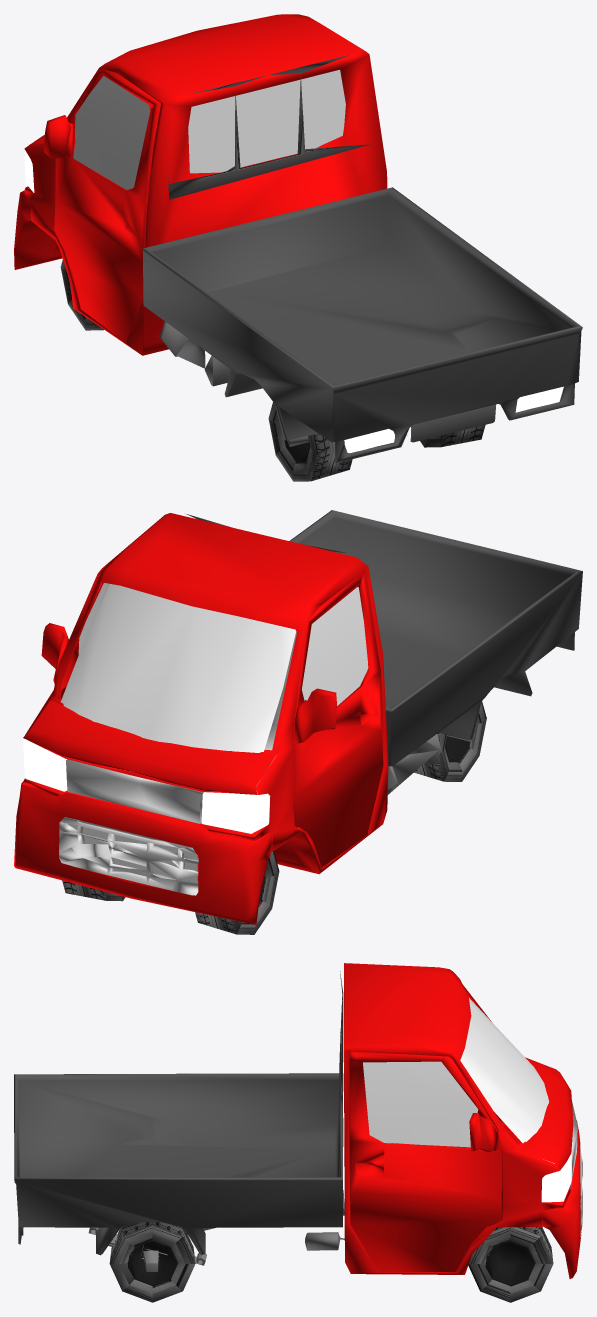
File: minitruck_lod.glb
The picture shows the model from 3 angles, top to bottom: view 1: azimuth 30°, elevation 25°; view 2: azimuth 150°, elevation 25°; view 3: azimuth 270°, elevation 25°; orthographic projection. The views are drawn at different scales.
Parts seen in each view (by area): view 1: Object_15, Object_11, Object_21, Object_106, Circle.062_62, Object_88, Object_5, Circle.022_59; view 2: Object_11, Object_15, Object_21, Object_78, Object_88, Circle.062_62, Circle.011_65, Object_5, Object_7, Circle.019_56; view 3: Object_15, Object_11, Object_21, Circle.022_59, Circle.019_56, Circle.021_57, Circle.032_60, Object_5, Object_88, Object_78, Object_106.
Boxes of the visible parts, x1=… form: Object_15: x1=142, y1=187, x2=582, y2=462; Object_11: x1=14, y1=14, x2=387, y2=355; Object_21: x1=74, y1=69, x2=345, y2=189; Object_106: x1=166, y1=54, x2=370, y2=199; Circle.062_62: x1=268, y1=402, x2=352, y2=481; Object_88: x1=24, y1=151, x2=563, y2=453; Object_5: x1=159, y1=321, x2=406, y2=446; Circle.022_59: x1=410, y1=425, x2=485, y2=447; Object_11: x1=14, y1=513, x2=388, y2=924; Object_15: x1=289, y1=510, x2=582, y2=766; Object_21: x1=61, y1=583, x2=368, y2=752; Object_78: x1=59, y1=632, x2=296, y2=895; Object_88: x1=23, y1=739, x2=269, y2=833; Circle.062_62: x1=414, y1=701, x2=486, y2=781; Circle.011_65: x1=195, y1=851, x2=279, y2=934; Object_5: x1=387, y1=734, x2=472, y2=794; Object_7: x1=68, y1=823, x2=197, y2=881; Circle.019_56: x1=62, y1=880, x2=125, y2=901; Object_15: x1=14, y1=1073, x2=343, y2=1255; Object_11: x1=344, y1=963, x2=582, y2=1278; Object_21: x1=141, y1=998, x2=548, y2=1258; Circle.022_59: x1=109, y1=1222, x2=195, y2=1302; Circle.019_56: x1=468, y1=1227, x2=553, y2=1302; Circle.021_57: x1=485, y1=1240, x2=535, y2=1285; Circle.032_60: x1=127, y1=1240, x2=178, y2=1285; Object_5: x1=88, y1=1190, x2=344, y2=1271; Object_88: x1=541, y1=1154, x2=571, y2=1202; Object_78: x1=383, y1=1101, x2=582, y2=1237; Object_106: x1=339, y1=971, x2=343, y2=1124.
Bounding box in the file's own units: 2.42 × 2.43 × 4.71.
Materials: 11 (1 with a texture image).
